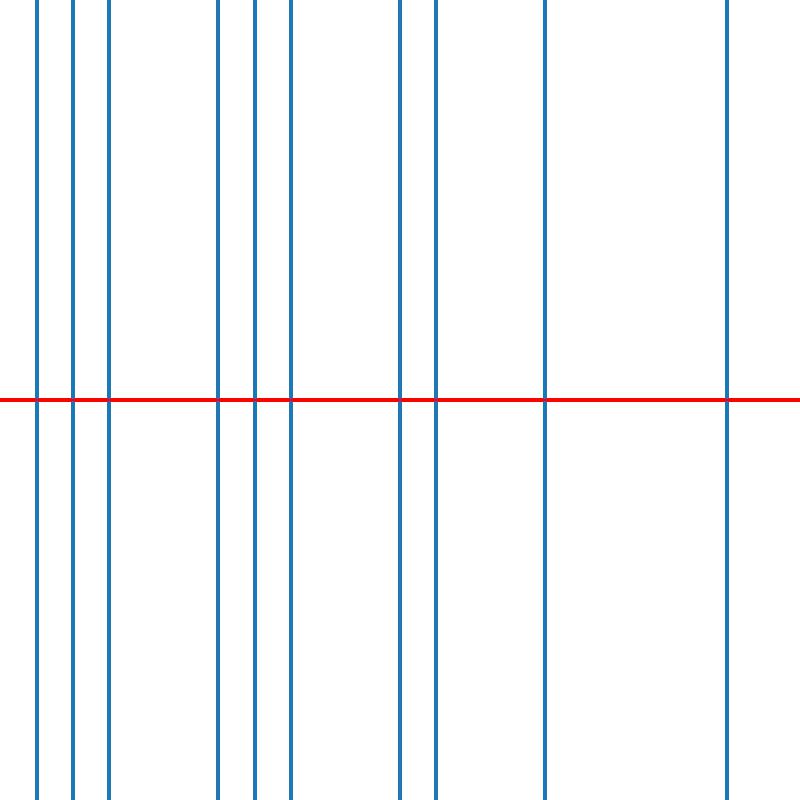root: (432, 396, 440, 404), (32, 396, 40, 404), (541, 396, 549, 404), (250, 396, 258, 404), (105, 396, 112, 404), (723, 396, 730, 404), (214, 396, 221, 404), (287, 396, 294, 404), (69, 396, 76, 404), (396, 396, 403, 404)
